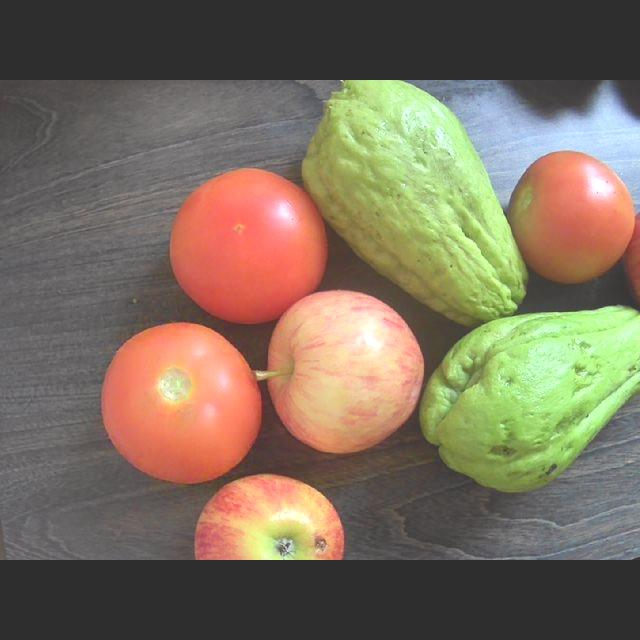chayote: (302, 80, 525, 325), (420, 306, 639, 491)
manzana: (268, 290, 423, 452), (195, 474, 343, 559)
tomate: (102, 323, 260, 483), (170, 169, 326, 323), (507, 151, 634, 283)
